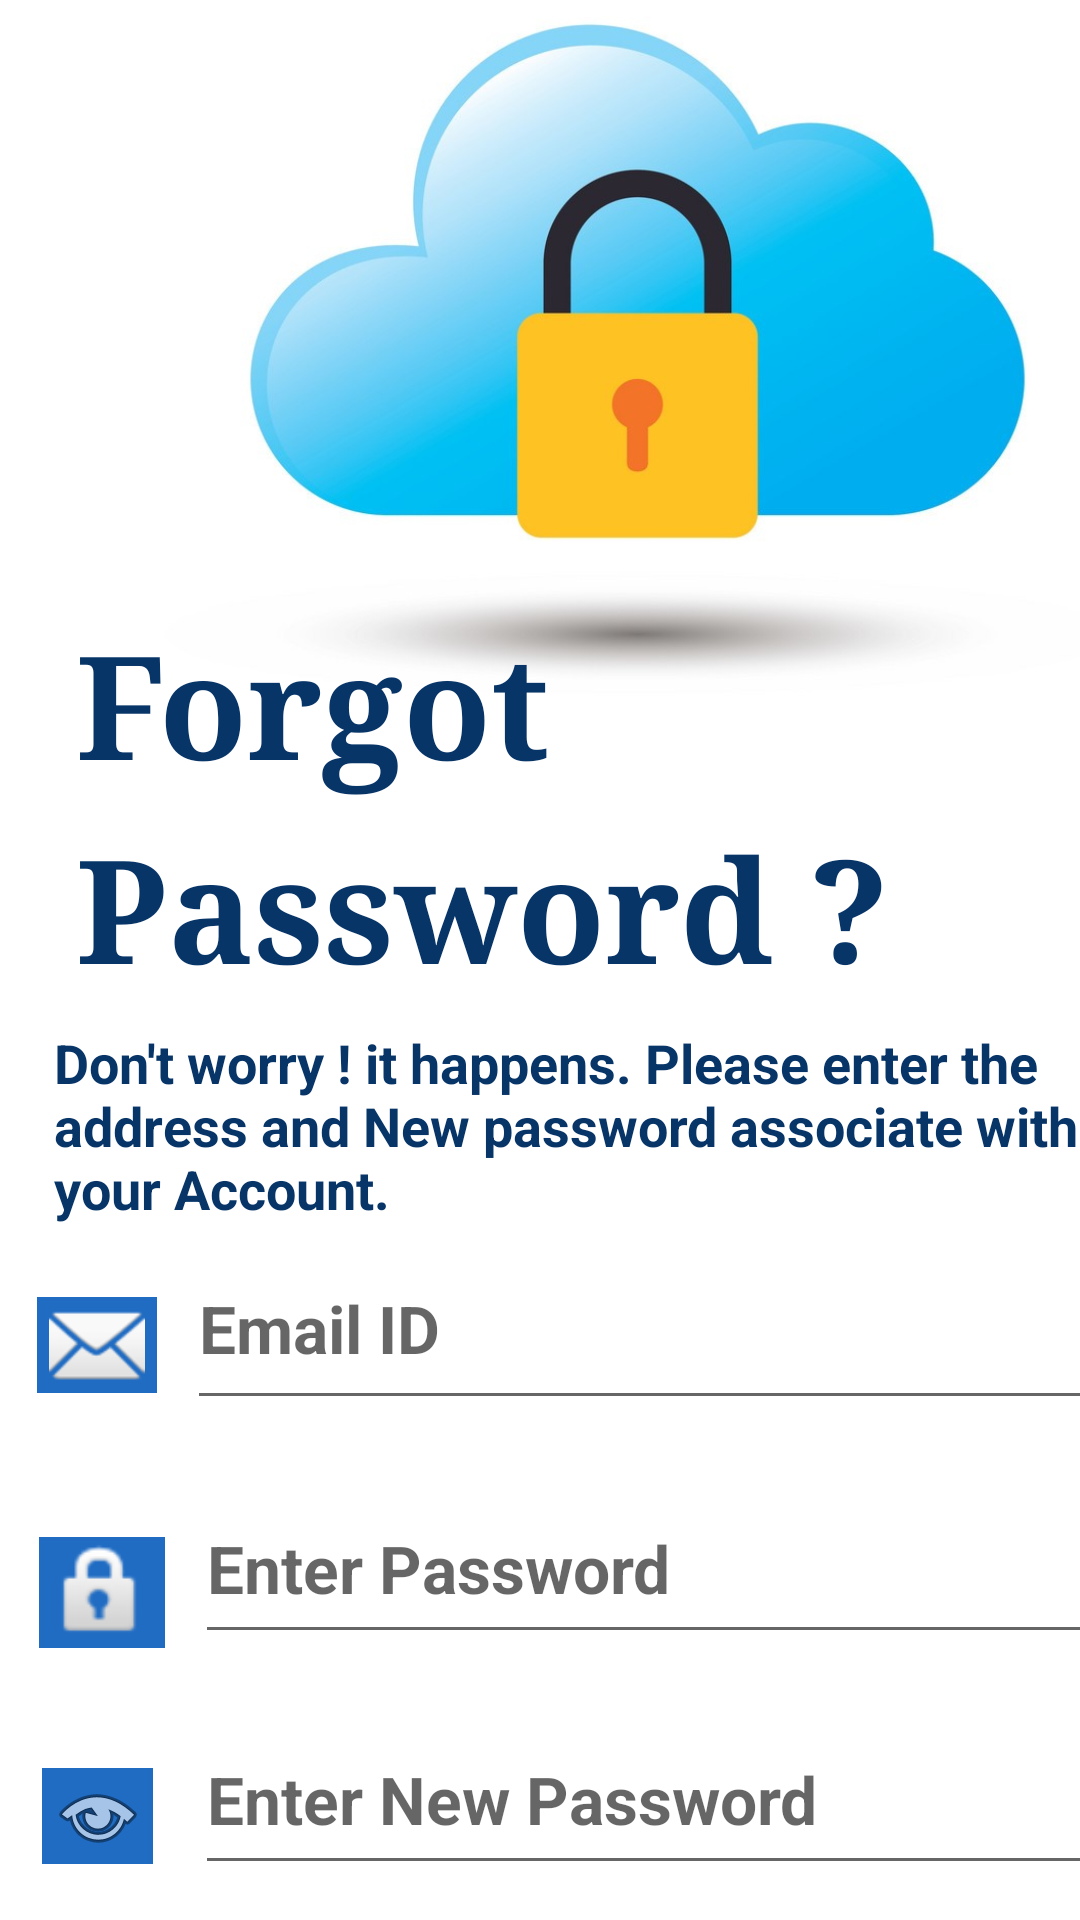

Icons on this 1080 x 1920 Android screen, each with the point to tap as [x,y]:
lock idle: [102,1592]
view: [97,1816]
